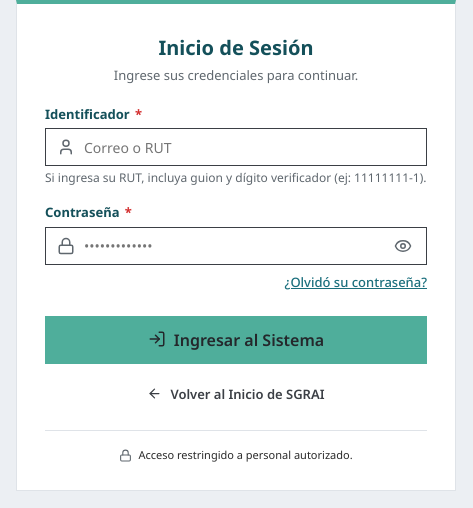
Test: LoginForm › debe validar formato de correo electrónico si contiene arroba
The width and height of the screenshot is (473, 508).
Type "correo-sin-dominio@" into the field labelled "Identificador *" at (236,147), box [45, 128, 427, 166]
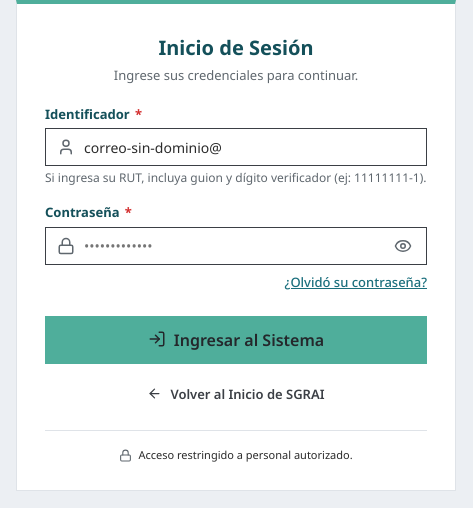
Type "Valdivia2026!" into the password field labelled "Contraseña *" at (236,246), box [45, 227, 427, 265]
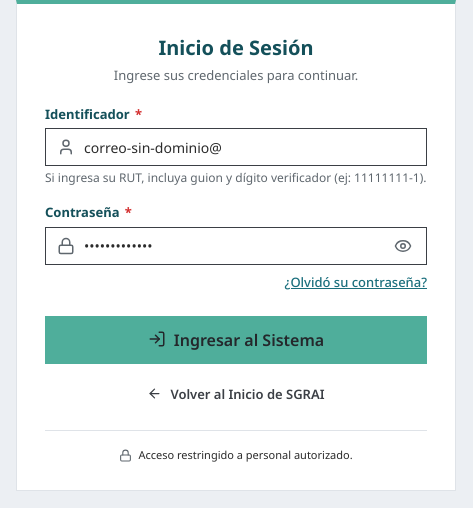
Click the button "Ingresar al Sistema" at (236,340), box [45, 316, 427, 364]
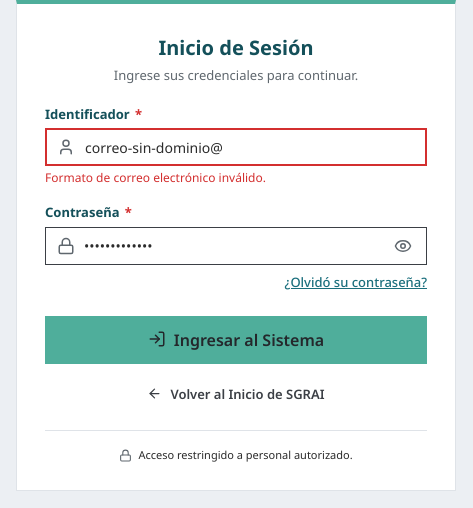
Expected: the text "Formato de correo electrónico inválido." is shown, [45, 169, 266, 186]
